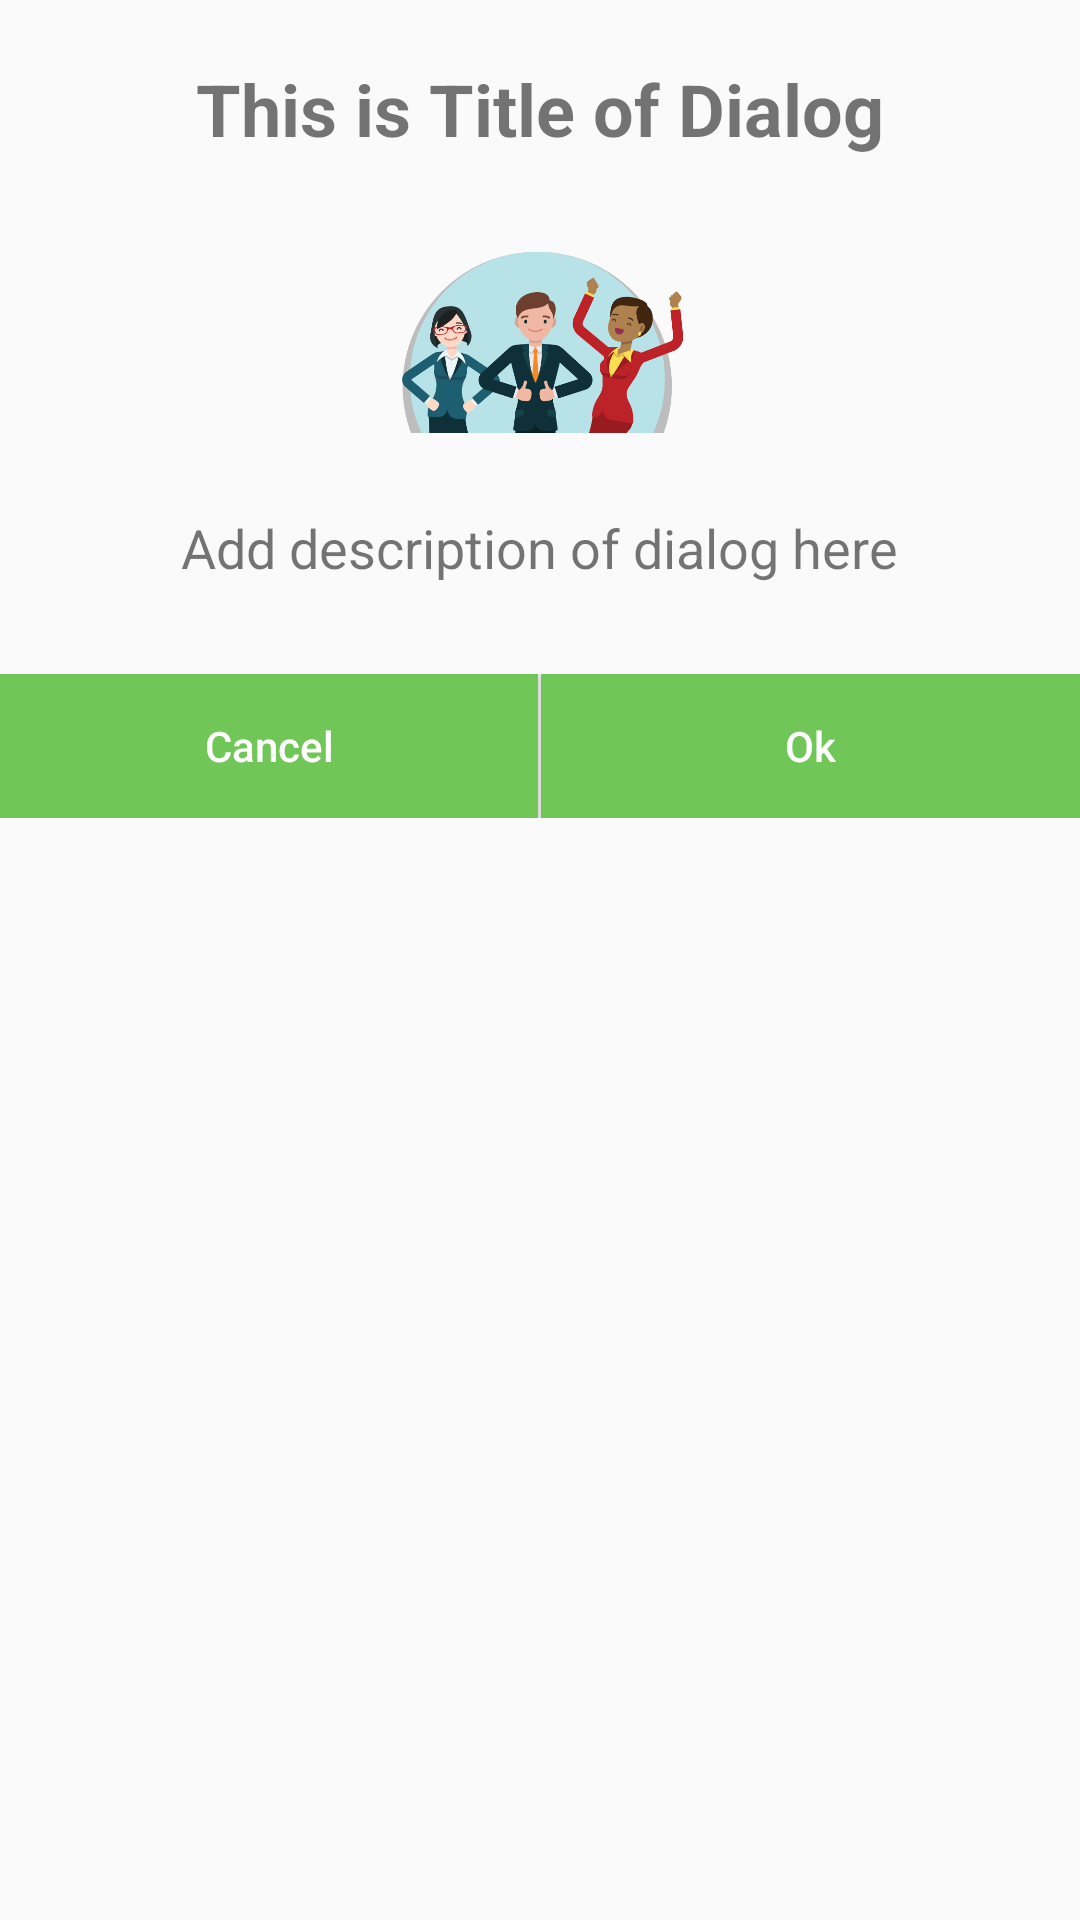

Named icons in this screenshot (1080px x 1920px) and their bounding boxes, (x1, y1, x2, y2):
sucess: (402, 252, 683, 433)
